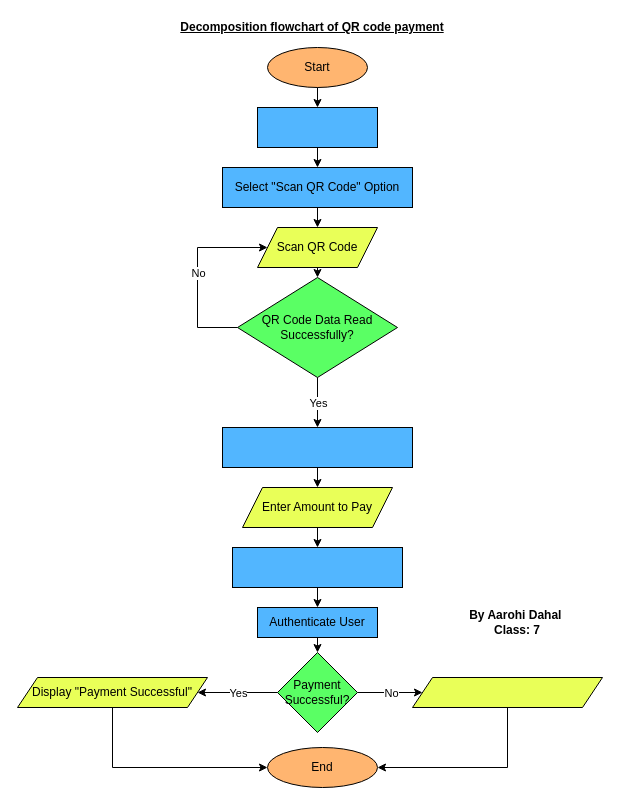
Some shapes in this 620 by 805 pixel diagram are drawn without their labels. Each missing label, with the centre of its shape:
Confirm Payment Details: point (317, 567)
Display "Payment Failed": point (507, 692)
Fetch an Display Receiver's Info: point (317, 447)
Open Payment App: point (317, 127)
